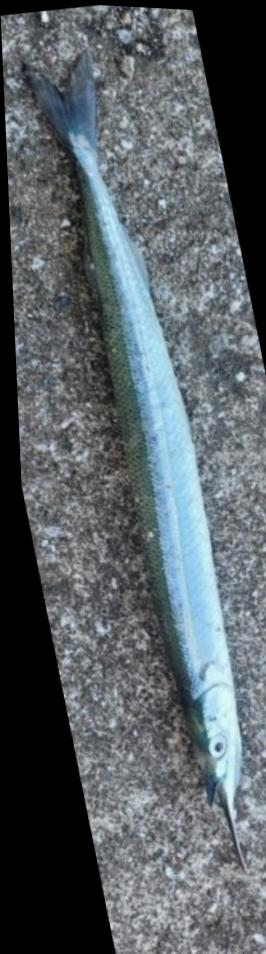fish: (18, 42, 237, 871)
